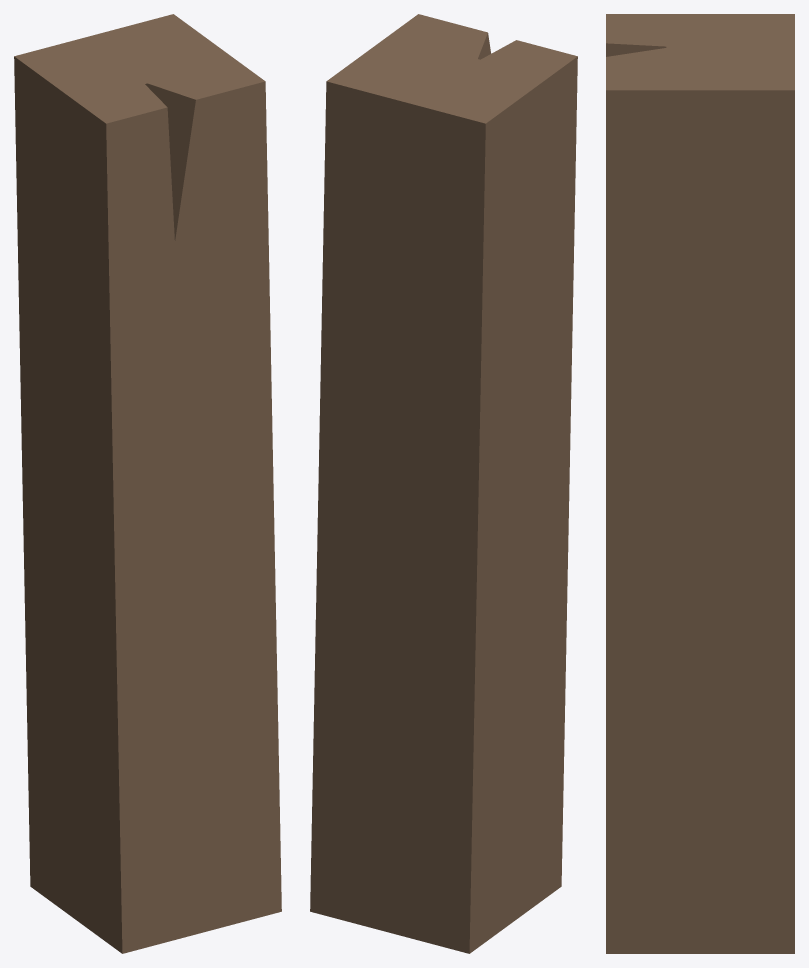
File: Hilly_Prop_Fence_Post_3.obj
3 views of the same model, side by side, from view 1: azimuth 30°, elevation 25°; view 2: azimuth 150°, elevation 25°; view 3: azimuth 270°, elevation 25° (orthographic). The views are drawn at different scales.
Parts seen in each view (by area): view 1: object1; view 2: object1; view 3: object1.
Boxes of the visible parts, x1,y1,x2,y2 form: object1: [14, 14, 281, 953]; object1: [310, 14, 577, 953]; object1: [606, 14, 794, 953].
Bounding box in the file's own units: 0.1653 × 0.7529 × 0.15.
